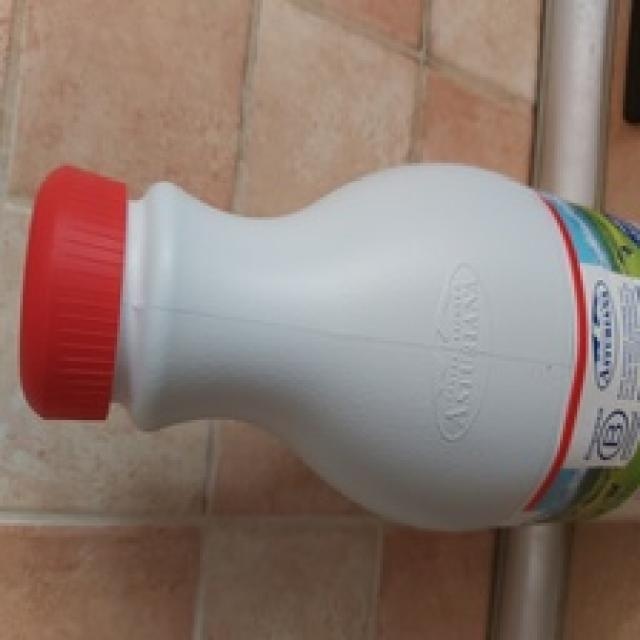Plastic: (22, 162, 640, 530)
